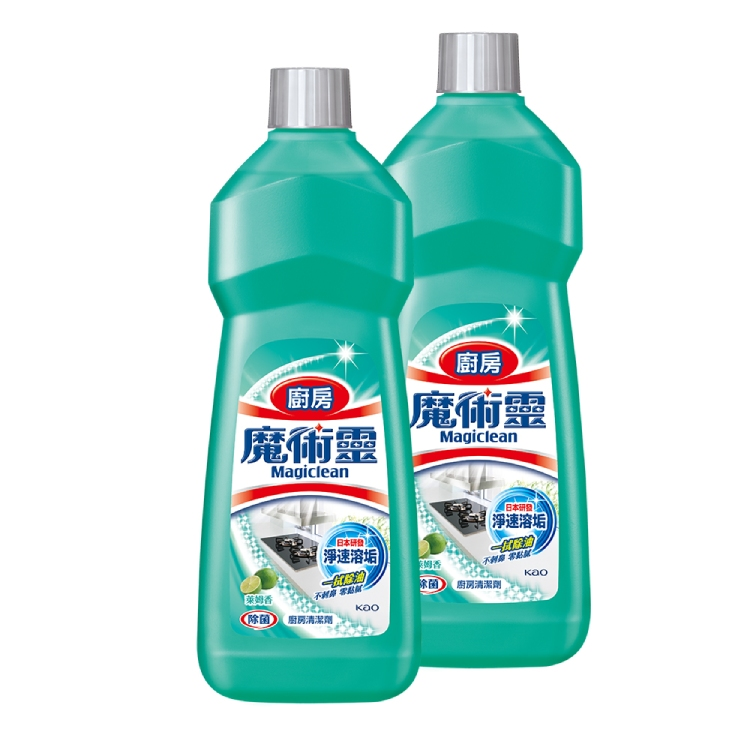cleaner: (341, 28, 608, 673), (181, 59, 432, 707)
